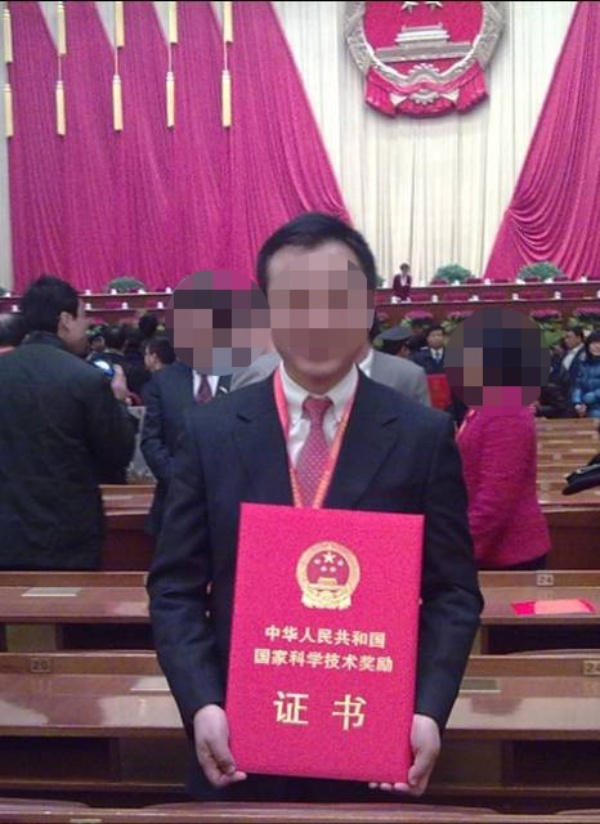text: (289, 688, 304, 733), (305, 688, 320, 733), (321, 688, 336, 733), (337, 688, 352, 733), (353, 688, 368, 733), (276, 688, 288, 733), (273, 621, 288, 653), (289, 621, 304, 653), (305, 621, 320, 653), (321, 621, 336, 653), (337, 621, 352, 653), (353, 621, 368, 653), (369, 621, 384, 653), (257, 647, 272, 675), (273, 647, 288, 675), (289, 647, 304, 675), (305, 647, 320, 675), (321, 647, 336, 675), (337, 647, 352, 675), (353, 647, 368, 675), (369, 647, 384, 675), (385, 647, 393, 675), (266, 621, 272, 653), (33, 660, 48, 671), (584, 661, 592, 674), (385, 621, 388, 653), (545, 575, 553, 585), (254, 647, 256, 675), (369, 688, 370, 733), (540, 575, 544, 585), (593, 661, 595, 674)
